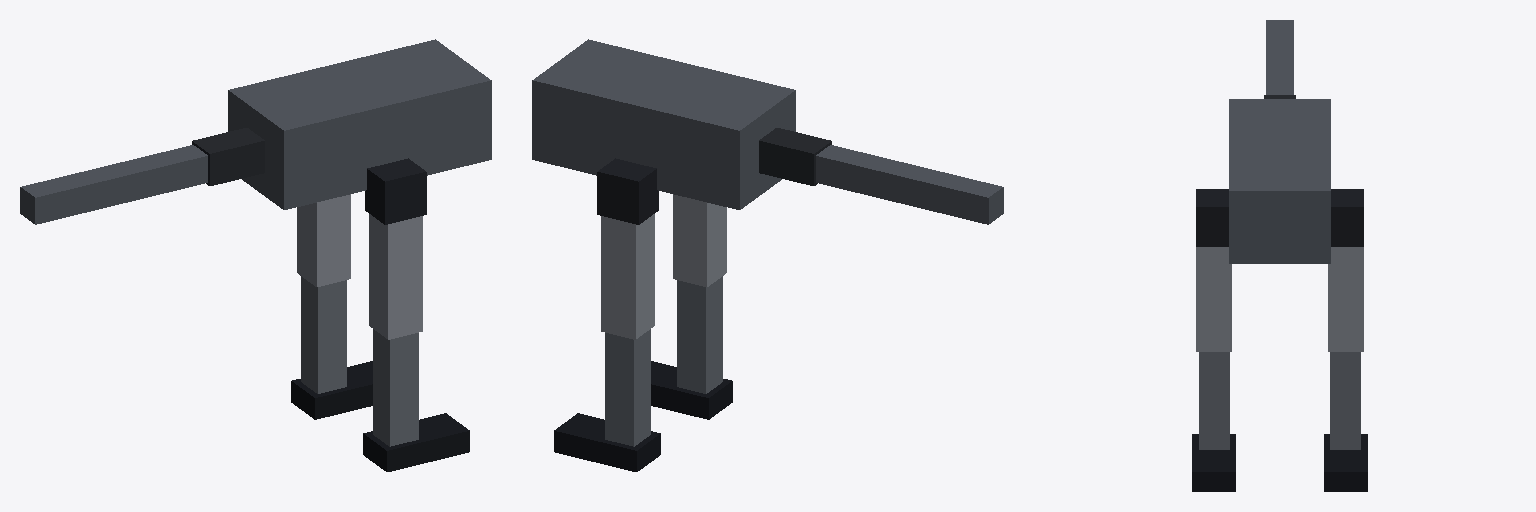
URDF robot description (raptor):
<?xml version="1.0" ?>
<!-- =================================================================================== -->
<!-- |    This document was autogenerated by xacro from urdf/raptor.urdf.xacro         | -->
<!-- |    EDITING THIS FILE BY HAND IS NOT RECOMMENDED                                 | -->
<!-- =================================================================================== -->
<robot name="raptor">
  <!-- Dummy root link for KDL -->
  <link name="base_root"/>
  <joint name="base_root_joint" type="fixed">
    <parent link="base_root"/>
    <child link="base_link"/>
    <origin rpy="0 0 0" xyz="0 0 0.85"/>
  </joint>
  <!--
    Raptor prototype
    Step 1: body only
  -->
  <link name="base_link">
    <!-- 화면에 보이는 외형 -->
    <visual>
      <origin rpy="0 0 0" xyz="0 0 0"/>
      <geometry>
        <box size="0.60 0.28 0.22"/>
      </geometry>
      <material name="body_gray">
        <color rgba="0.35 0.37 0.40 1.0"/>
      </material>
    </visual>
    <!-- Gazebo가 충돌 계산할 때 사용하는 모양 -->
    <collision>
      <origin rpy="0 0 0" xyz="0 0 0"/>
      <geometry>
        <box size="0.60 0.28 0.22"/>
      </geometry>
    </collision>
    <!-- 무게와 회전 특성 -->
    <inertial>
      <origin rpy="0 0 0" xyz="0 0 0"/>
      <mass value="8.0"/>
      <inertia ixx="0.0843" ixy="0.0" ixz="0.0" iyy="0.2691" iyz="0.0" izz="0.2923"/>
    </inertial>
  </link>
  <!-- ========================================= -->
  <!-- LEFT HIP ROLL -->
  <!-- 다리를 좌우로 벌리고 모으는 첫 번째 관절 -->
  <!-- ========================================= -->
  <link name="left_hip_roll_link">
    <visual>
      <origin rpy="0 0 0" xyz="0 0 -0.06"/>
      <geometry>
        <box size="0.12 0.10 0.12"/>
      </geometry>
      <material name="joint_dark">
        <color rgba="0.15 0.16 0.18 1.0"/>
      </material>
    </visual>
    <collision>
      <origin rpy="0 0 0" xyz="0 0 -0.06"/>
      <geometry>
        <box size="0.12 0.10 0.12"/>
      </geometry>
    </collision>
    <inertial>
      <origin rpy="0 0 0" xyz="0 0 -0.06"/>
      <mass value="0.8"/>
      <inertia ixx="0.0016" ixy="0.0" ixz="0.0" iyy="0.0016" iyz="0.0" izz="0.0013"/>
    </inertial>
  </link>
  <joint name="left_hip_roll_joint" type="revolute">
    <parent link="base_link"/>
    <child link="left_hip_roll_link"/>
    <!-- 몸통 왼쪽 아래에 관절 배치 -->
    <origin rpy="0 0 0" xyz="0 0.18 -0.05"/>
    <!-- X축 회전 = Hip Roll -->
    <axis xyz="1 0 0"/>
    <!-- 약 -29도 ~ +29도 -->
    <limit effort="80" lower="-0.50" upper="0.50" velocity="2.0"/>
  </joint>
  <!-- ========================================= -->
  <!-- LEFT HIP PITCH + THIGH -->
  <!-- 다리를 앞뒤로 움직이는 두 번째 관절 -->
  <!-- ========================================= -->
  <link name="left_thigh_link">
    <visual>
      <!-- 관절에서 아래쪽으로 허벅지가 내려감 -->
      <origin rpy="0 0 0" xyz="0 0 -0.16"/>
      <geometry>
        <box size="0.10 0.10 0.32"/>
      </geometry>
      <material name="leg_gray">
        <color rgba="0.55 0.57 0.60 1.0"/>
      </material>
    </visual>
    <collision>
      <origin rpy="0 0 0" xyz="0 0 -0.16"/>
      <geometry>
        <box size="0.10 0.10 0.32"/>
      </geometry>
    </collision>
    <inertial>
      <origin rpy="0 0 0" xyz="0 0 -0.16"/>
      <mass value="1.5"/>
      <inertia ixx="0.0140" ixy="0.0" ixz="0.0" iyy="0.0140" iyz="0.0" izz="0.0025"/>
    </inertial>
  </link>
  <joint name="left_hip_pitch_joint" type="revolute">
    <parent link="left_hip_roll_link"/>
    <child link="left_thigh_link"/>
    <!-- Hip Roll 블록 아래쪽에 Hip Pitch 배치 -->
    <origin rpy="0 0 0" xyz="0 0 -0.12"/>
    <!-- Y축 회전 = 다리 앞뒤 움직임 -->
    <axis xyz="0 1 0"/>
    <!-- 약 -69도 ~ +46도 -->
    <limit effort="100" lower="-1.20" upper="0.80" velocity="2.5"/>
  </joint>
  <!-- ========================================= -->
  <!-- LEFT KNEE PITCH + SHIN -->
  <!-- 무릎을 굽히고 펴는 세 번째 관절 -->
  <!-- ========================================= -->
  <link name="left_shin_link">
    <visual>
      <!-- 무릎 아래로 종아리가 내려감 -->
      <origin rpy="0 0 0" xyz="0 0 -0.15"/>
      <geometry>
        <box size="0.085 0.085 0.30"/>
      </geometry>
      <material name="shin_gray">
        <color rgba="0.42 0.44 0.47 1.0"/>
      </material>
    </visual>
    <collision>
      <origin rpy="0 0 0" xyz="0 0 -0.15"/>
      <geometry>
        <box size="0.085 0.085 0.30"/>
      </geometry>
    </collision>
    <inertial>
      <origin rpy="0 0 0" xyz="0 0 -0.15"/>
      <mass value="1.1"/>
      <inertia ixx="0.0089" ixy="0.0" ixz="0.0" iyy="0.0089" iyz="0.0" izz="0.0013"/>
    </inertial>
  </link>
  <joint name="left_knee_pitch_joint" type="revolute">
    <parent link="left_thigh_link"/>
    <child link="left_shin_link"/>
    <!-- 허벅지 끝 = 무릎 위치 -->
    <origin rpy="0 0 0" xyz="0 0 -0.32"/>
    <!-- Y축 회전 = 무릎 굽힘 -->
    <axis xyz="0 1 0"/>
    <!--
      0 rad = 다리를 편 상태
      약 126도까지 굽힘 허용
    -->
    <limit effort="120" lower="0.0" upper="2.20" velocity="3.0"/>
  </joint>
  <!-- ========================================= -->
  <!-- LEFT ANKLE PITCH + FOOT -->
  <!-- 발목을 앞뒤로 움직이는 네 번째 관절 -->
  <!-- ========================================= -->
  <link name="left_foot_link">
    <visual>
      <!-- 발목 기준으로 발을 약간 앞으로 배치 -->
      <origin rpy="0 0 0" xyz="0.06 0 -0.03"/>
      <geometry>
        <box size="0.24 0.12 0.06"/>
      </geometry>
      <material name="foot_dark">
        <color rgba="0.12 0.13 0.15 1.0"/>
      </material>
    </visual>
    <collision>
      <origin rpy="0 0 0" xyz="0.06 0 -0.03"/>
      <geometry>
        <box size="0.24 0.12 0.06"/>
      </geometry>
    </collision>
    <inertial>
      <origin rpy="0 0 0" xyz="0.06 0 -0.03"/>
      <mass value="0.6"/>
      <inertia ixx="0.0009" ixy="0.0" ixz="0.0" iyy="0.0031" iyz="0.0" izz="0.0036"/>
    </inertial>
  </link>
  <joint name="left_ankle_pitch_joint" type="revolute">
    <parent link="left_shin_link"/>
    <child link="left_foot_link"/>
    <!-- 종아리 끝부분에 발목 배치 -->
    <origin rpy="0 0 0" xyz="0 0 -0.30"/>
    <!-- Y축 회전 = 발 앞뒤 기울임 -->
    <axis xyz="0 1 0"/>
    <!-- 약 -40도 ~ +40도 -->
    <limit effort="80" lower="-0.70" upper="0.70" velocity="2.5"/>
  </joint>
  <!-- ===================================================== -->
  <!-- RIGHT LEG : 4 DOF                                     -->
  <!-- Hip Roll + Hip Pitch + Knee Pitch + Ankle Pitch       -->
  <!-- ===================================================== -->
  <!-- 1. RIGHT HIP ROLL LINK -->
  <link name="right_hip_roll_link">
    <visual>
      <origin rpy="0 0 0" xyz="0 0 -0.06"/>
      <geometry>
        <box size="0.12 0.10 0.12"/>
      </geometry>
      <material name="right_joint_dark">
        <color rgba="0.15 0.16 0.18 1.0"/>
      </material>
    </visual>
    <collision>
      <origin rpy="0 0 0" xyz="0 0 -0.06"/>
      <geometry>
        <box size="0.12 0.10 0.12"/>
      </geometry>
    </collision>
    <inertial>
      <origin rpy="0 0 0" xyz="0 0 -0.06"/>
      <mass value="0.8"/>
      <inertia ixx="0.0016" ixy="0.0" ixz="0.0" iyy="0.0016" iyz="0.0" izz="0.0013"/>
    </inertial>
  </link>
  <joint name="right_hip_roll_joint" type="revolute">
    <parent link="base_link"/>
    <child link="right_hip_roll_link"/>
    <!-- 오른쪽은 Y 음수 방향 -->
    <origin rpy="0 0 0" xyz="0 -0.18 -0.05"/>
    <!--
      오른쪽은 왼쪽과 반대 방향의 X축을 사용.
      따라서 양쪽에서 +값을 줬을 때 다리가 바깥으로 벌어지게 함.
    -->
    <axis xyz="-1 0 0"/>
    <limit effort="80" lower="-0.50" upper="0.50" velocity="2.0"/>
  </joint>
  <!-- 2. RIGHT HIP PITCH + THIGH -->
  <link name="right_thigh_link">
    <visual>
      <origin rpy="0 0 0" xyz="0 0 -0.16"/>
      <geometry>
        <box size="0.10 0.10 0.32"/>
      </geometry>
      <material name="right_leg_gray">
        <color rgba="0.55 0.57 0.60 1.0"/>
      </material>
    </visual>
    <collision>
      <origin rpy="0 0 0" xyz="0 0 -0.16"/>
      <geometry>
        <box size="0.10 0.10 0.32"/>
      </geometry>
    </collision>
    <inertial>
      <origin rpy="0 0 0" xyz="0 0 -0.16"/>
      <mass value="1.5"/>
      <inertia ixx="0.0140" ixy="0.0" ixz="0.0" iyy="0.0140" iyz="0.0" izz="0.0025"/>
    </inertial>
  </link>
  <joint name="right_hip_pitch_joint" type="revolute">
    <parent link="right_hip_roll_link"/>
    <child link="right_thigh_link"/>
    <origin rpy="0 0 0" xyz="0 0 -0.12"/>
    <!-- 앞 / 뒤 -->
    <axis xyz="0 1 0"/>
    <limit effort="100" lower="-1.20" upper="0.80" velocity="2.5"/>
  </joint>
  <!-- 3. RIGHT KNEE PITCH + SHIN -->
  <link name="right_shin_link">
    <visual>
      <origin rpy="0 0 0" xyz="0 0 -0.15"/>
      <geometry>
        <box size="0.085 0.085 0.30"/>
      </geometry>
      <material name="right_shin_gray">
        <color rgba="0.42 0.44 0.47 1.0"/>
      </material>
    </visual>
    <collision>
      <origin rpy="0 0 0" xyz="0 0 -0.15"/>
      <geometry>
        <box size="0.085 0.085 0.30"/>
      </geometry>
    </collision>
    <inertial>
      <origin rpy="0 0 0" xyz="0 0 -0.15"/>
      <mass value="1.1"/>
      <inertia ixx="0.0089" ixy="0.0" ixz="0.0" iyy="0.0089" iyz="0.0" izz="0.0013"/>
    </inertial>
  </link>
  <joint name="right_knee_pitch_joint" type="revolute">
    <parent link="right_thigh_link"/>
    <child link="right_shin_link"/>
    <origin rpy="0 0 0" xyz="0 0 -0.32"/>
    <axis xyz="0 1 0"/>
    <limit effort="120" lower="0.0" upper="2.20" velocity="3.0"/>
  </joint>
  <!-- 4. RIGHT ANKLE PITCH + FOOT -->
  <link name="right_foot_link">
    <visual>
      <origin rpy="0 0 0" xyz="0.06 0 -0.03"/>
      <geometry>
        <box size="0.24 0.12 0.06"/>
      </geometry>
      <material name="right_foot_dark">
        <color rgba="0.12 0.13 0.15 1.0"/>
      </material>
    </visual>
    <collision>
      <origin rpy="0 0 0" xyz="0.06 0 -0.03"/>
      <geometry>
        <box size="0.24 0.12 0.06"/>
      </geometry>
    </collision>
    <inertial>
      <origin rpy="0 0 0" xyz="0.06 0 -0.03"/>
      <mass value="0.6"/>
      <inertia ixx="0.0009" ixy="0.0" ixz="0.0" iyy="0.0031" iyz="0.0" izz="0.0036"/>
    </inertial>
  </link>
  <joint name="right_ankle_pitch_joint" type="revolute">
    <parent link="right_shin_link"/>
    <child link="right_foot_link"/>
    <origin rpy="0 0 0" xyz="0 0 -0.30"/>
    <axis xyz="0 1 0"/>
    <limit effort="80" lower="-0.70" upper="0.70" velocity="2.5"/>
  </joint>
  <!-- ===================================================== -->
  <!-- TAIL : 2 DOF                                         -->
  <!-- Tail Yaw + Tail Pitch                                 -->
  <!-- ===================================================== -->
  <!-- 9. TAIL YAW LINK -->
  <!-- 몸통 뒤쪽에서 좌우로 회전하는 꼬리 베이스 -->
  <link name="tail_yaw_link">
    <visual>
      <!-- 관절 기준 뒤쪽(-X)으로 꼬리 베이스가 뻗음 -->
      <origin rpy="0 0 0" xyz="-0.08 0 0"/>
      <geometry>
        <box size="0.16 0.09 0.09"/>
      </geometry>
      <material name="tail_dark">
        <color rgba="0.18 0.19 0.21 1.0"/>
      </material>
    </visual>
    <collision>
      <origin rpy="0 0 0" xyz="-0.08 0 0"/>
      <geometry>
        <box size="0.16 0.09 0.09"/>
      </geometry>
    </collision>
    <inertial>
      <origin rpy="0 0 0" xyz="-0.08 0 0"/>
      <mass value="0.5"/>
      <inertia ixx="0.0007" ixy="0.0" ixz="0.0" iyy="0.0014" iyz="0.0" izz="0.0014"/>
    </inertial>
  </link>
  <joint name="tail_yaw_joint" type="revolute">
    <parent link="base_link"/>
    <child link="tail_yaw_link"/>
    <!-- 몸통 뒤쪽 끝에 꼬리 장착 -->
    <origin rpy="0 0 0" xyz="-0.30 0 0"/>
    <!-- Z축 회전 = 좌우 움직임 -->
    <axis xyz="0 0 1"/>
    <!-- 약 좌우 ±46도 -->
    <limit effort="50" lower="-0.80" upper="0.80" velocity="2.0"/>
  </joint>
  <!-- 10. TAIL PITCH + MAIN TAIL -->
  <!-- 꼬리를 위아래로 움직이는 관절 -->
  <link name="tail_link">
    <visual>
      <!-- Pitch 관절에서 뒤쪽으로 0.5m 뻗는 꼬리 -->
      <origin rpy="0 0 0" xyz="-0.25 0 0"/>
      <geometry>
        <box size="0.50 0.075 0.075"/>
      </geometry>
      <material name="tail_gray">
        <color rgba="0.35 0.37 0.40 1.0"/>
      </material>
    </visual>
    <collision>
      <origin rpy="0 0 0" xyz="-0.25 0 0"/>
      <geometry>
        <box size="0.50 0.075 0.075"/>
      </geometry>
    </collision>
    <inertial>
      <origin rpy="0 0 0" xyz="-0.25 0 0"/>
      <mass value="0.8"/>
      <inertia ixx="0.0008" ixy="0.0" ixz="0.0" iyy="0.0169" iyz="0.0" izz="0.0169"/>
    </inertial>
  </link>
  <joint name="tail_pitch_joint" type="revolute">
    <parent link="tail_yaw_link"/>
    <child link="tail_link"/>
    <!-- 꼬리 베이스 끝 -->
    <origin rpy="0 0 0" xyz="-0.16 0 0"/>
    <!-- Y축 회전 = 위 / 아래 -->
    <axis xyz="0 1 0"/>
    <!-- 약 ±34도 -->
    <limit effort="50" lower="-0.60" upper="0.60" velocity="2.0"/>
  </joint>
  <!-- ===================================================== -->
  <!-- ROS 2 CONTROL : 10 DOF                                -->
  <!-- ===================================================== -->
  <ros2_control name="GazeboSimSystem" type="system">
    <hardware>
      <plugin>gz_ros2_control/GazeboSimSystem</plugin>
    </hardware>
    <!-- LEFT LEG -->
    <joint name="left_hip_roll_joint">
      <command_interface name="position"/>
      <state_interface name="position"/>
      <state_interface name="velocity"/>
    </joint>
    <joint name="left_hip_pitch_joint">
      <command_interface name="position"/>
      <state_interface name="position"/>
      <state_interface name="velocity"/>
    </joint>
    <joint name="left_knee_pitch_joint">
      <command_interface name="position"/>
      <state_interface name="position"/>
      <state_interface name="velocity"/>
    </joint>
    <joint name="left_ankle_pitch_joint">
      <command_interface name="position"/>
      <state_interface name="position"/>
      <state_interface name="velocity"/>
    </joint>
    <!-- RIGHT LEG -->
    <joint name="right_hip_roll_joint">
      <command_interface name="position"/>
      <state_interface name="position"/>
      <state_interface name="velocity"/>
    </joint>
    <joint name="right_hip_pitch_joint">
      <command_interface name="position"/>
      <state_interface name="position"/>
      <state_interface name="velocity"/>
    </joint>
    <joint name="right_knee_pitch_joint">
      <command_interface name="position"/>
      <state_interface name="position"/>
      <state_interface name="velocity"/>
    </joint>
    <joint name="right_ankle_pitch_joint">
      <command_interface name="position"/>
      <state_interface name="position"/>
      <state_interface name="velocity"/>
    </joint>
    <!-- TAIL -->
    <joint name="tail_yaw_joint">
      <command_interface name="position"/>
      <state_interface name="position"/>
      <state_interface name="velocity"/>
    </joint>
    <joint name="tail_pitch_joint">
      <command_interface name="position"/>
      <state_interface name="position"/>
      <state_interface name="velocity"/>
    </joint>
  </ros2_control>
  <!-- Gazebo ↔ ros2_control bridge -->
  <gazebo>
    <plugin filename="libgz_ros2_control-system.so" name="gz_ros2_control::GazeboSimROS2ControlPlugin">
      <parameters>
        /home/user/raptor_ws/install/raptor_control/share/raptor_control/config/controllers.yaml
      </parameters>
      <!-- controller가 아직 안 잡은 관절도 현재 위치 유지 -->
      <hold_joints>true</hold_joints>
      <!-- position control 반응 강도 -->
      <position_proportional_gain>0.3</position_proportional_gain>
    </plugin>
  </gazebo>
</robot>

--- Render facts (derived) ---
3 views of the same robot in one strip: view 1: azimuth 30°, elevation 25°; view 2: azimuth 150°, elevation 25°; view 3: azimuth 270°, elevation 25° (orthographic).
Robot: raptor — 12 links, 11 joints (10 revolute, 1 fixed); root link base_root; default pose: all joints at 0.
Visible links, largest first — view 1: base_link, tail_link, right_thigh_link, right_shin_link, left_shin_link, left_thigh_link, right_foot_link, right_hip_roll_link, tail_yaw_link, left_foot_link; view 2: base_link, tail_link, left_thigh_link, left_shin_link, right_shin_link, right_thigh_link, left_foot_link, left_hip_roll_link, tail_yaw_link, right_foot_link; view 3: base_link, left_thigh_link, right_thigh_link, left_shin_link, right_shin_link, tail_link, left_foot_link, right_foot_link, left_hip_roll_link, right_hip_roll_link.
Boxes of the visible links, left/top/right/bottom form: base_link: left=228, top=39, right=491, bottom=209; tail_link: left=20, top=145, right=207, bottom=224; right_thigh_link: left=369, top=214, right=422, bottom=339; right_shin_link: left=373, top=329, right=418, bottom=446; left_shin_link: left=301, top=276, right=346, bottom=393; left_thigh_link: left=297, top=194, right=350, bottom=286; right_foot_link: left=363, top=413, right=469, bottom=471; right_hip_roll_link: left=365, top=158, right=426, bottom=224; tail_yaw_link: left=192, top=128, right=264, bottom=185; left_foot_link: left=291, top=361, right=372, bottom=419; base_link: left=532, top=39, right=795, bottom=209; tail_link: left=816, top=145, right=1003, bottom=224; left_thigh_link: left=601, top=214, right=654, bottom=339; left_shin_link: left=605, top=329, right=650, bottom=446; right_shin_link: left=677, top=276, right=722, bottom=393; right_thigh_link: left=673, top=194, right=726, bottom=286; left_foot_link: left=554, top=413, right=660, bottom=471; left_hip_roll_link: left=597, top=158, right=658, bottom=224; tail_yaw_link: left=759, top=128, right=831, bottom=185; right_foot_link: left=651, top=361, right=732, bottom=419; base_link: left=1229, top=99, right=1330, bottom=263; left_thigh_link: left=1328, top=247, right=1363, bottom=351; right_thigh_link: left=1196, top=247, right=1231, bottom=351; left_shin_link: left=1330, top=352, right=1360, bottom=449; right_shin_link: left=1199, top=352, right=1229, bottom=449; tail_link: left=1266, top=20, right=1293, bottom=94; left_foot_link: left=1324, top=434, right=1367, bottom=491; right_foot_link: left=1192, top=434, right=1235, bottom=491; left_hip_roll_link: left=1331, top=189, right=1363, bottom=246; right_hip_roll_link: left=1196, top=189, right=1228, bottom=246.
Size in the robot's own frame: 1.26 by 0.48 by 0.96 metres.
Geometry: primitives only (box / cylinder / sphere), no mesh files.
